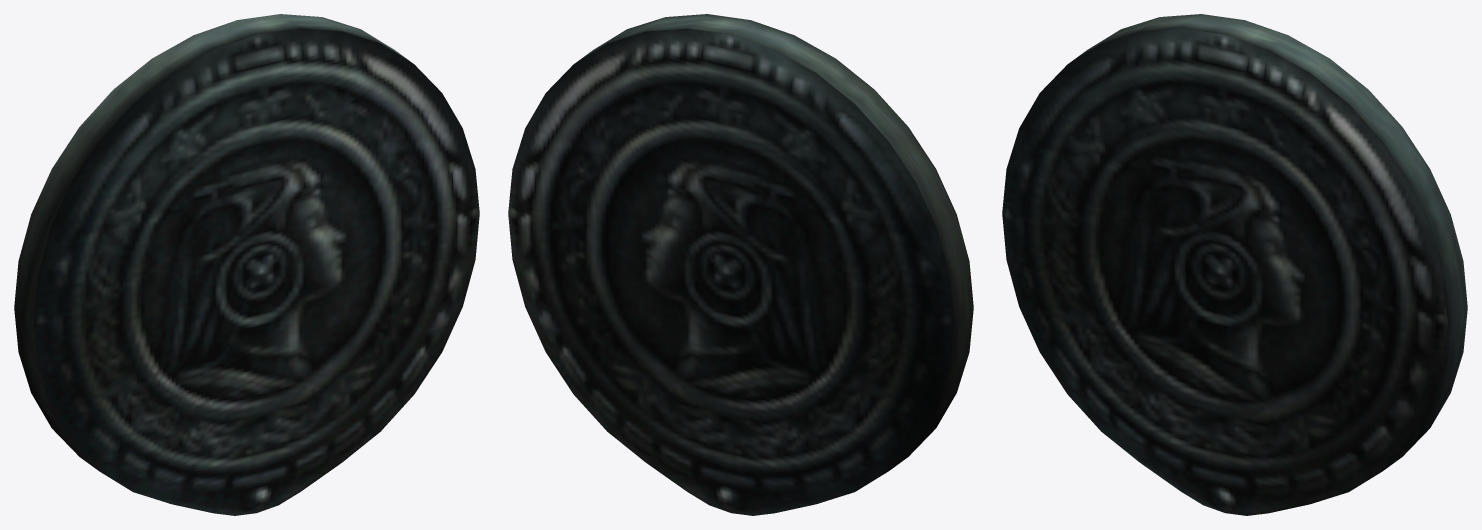
The model's file is we3.ico.obj.
The picture shows the model from 3 angles, left to right: view 1: azimuth 30°, elevation 25°; view 2: azimuth 150°, elevation 25°; view 3: azimuth 330°, elevation 25°; orthographic projection.
Bounding box in the file's own units: 4.31 × 4.42 × 0.4868.
1 material, 1 textured.
